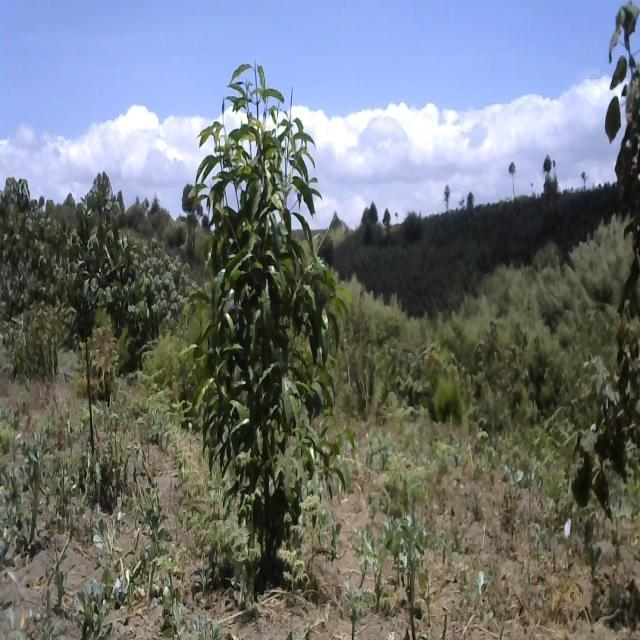Hass Avocado: (178, 53, 350, 579), (53, 192, 116, 446)
cedrus: (176, 304, 212, 404), (435, 367, 463, 424)
other: (0, 176, 52, 316), (134, 230, 192, 330)
